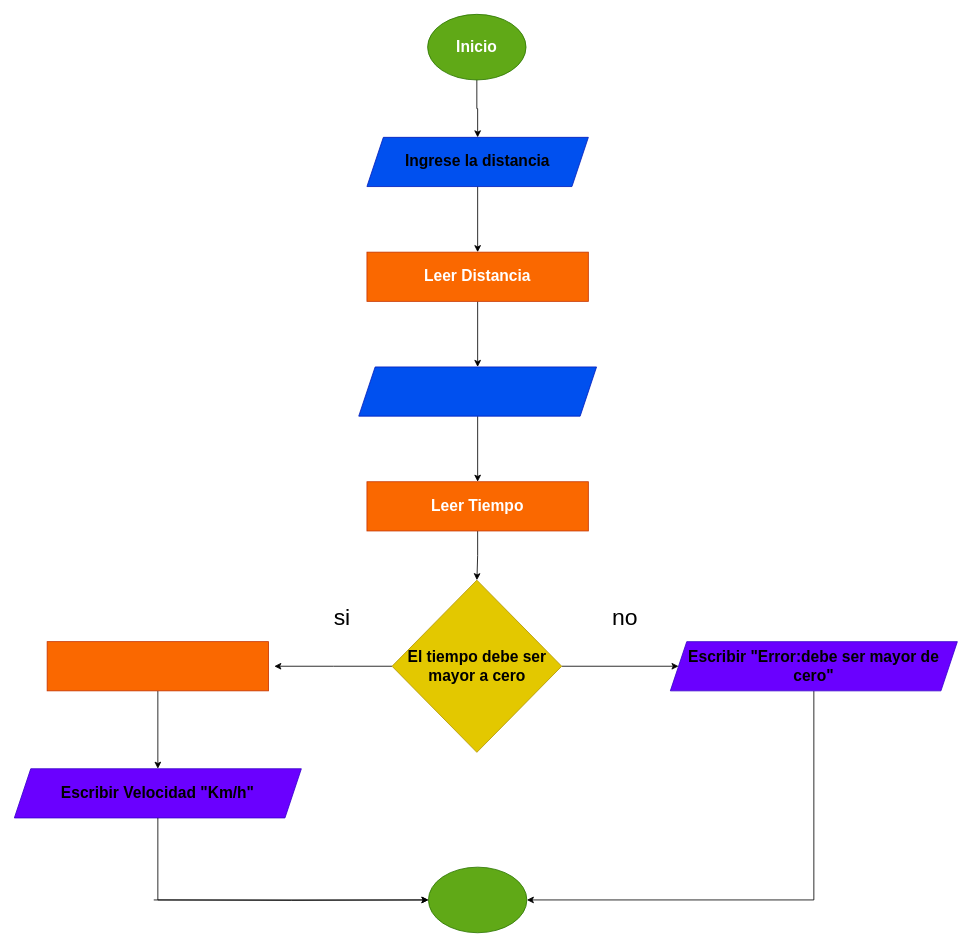
Some shapes in this 972 by 947 pixel diagram are drawn without their labels. Each missing label, with the centre of its shape:
"Fin" goes at point 477,899.
"Ingrese el tiempo" goes at point 477,391.
"Velocidad=Distancia / Tiempo" goes at point 157,666.
